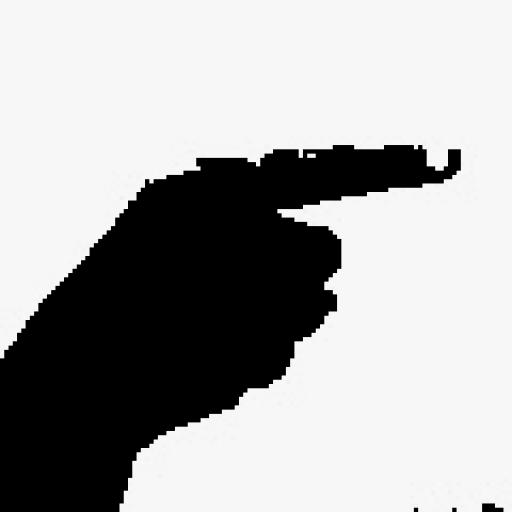index_left: (0, 140, 465, 362)
